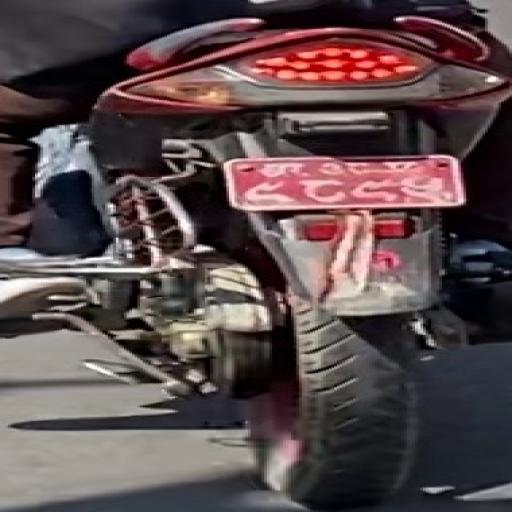license_plate: (219, 152, 470, 216)
